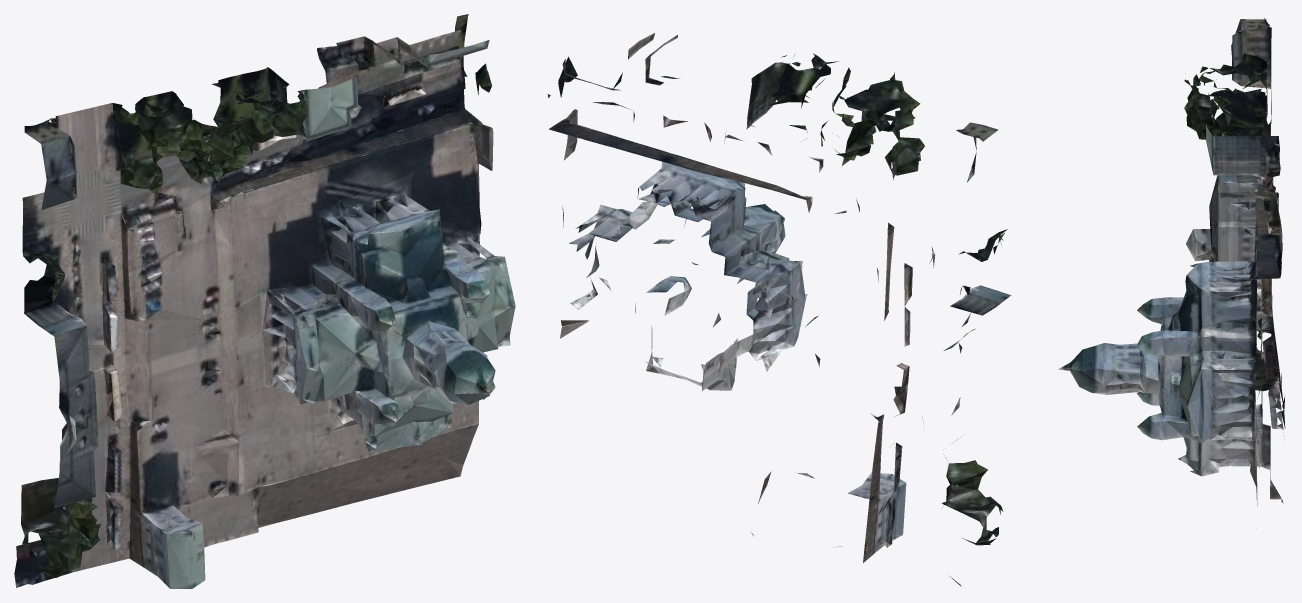
Rendered from Tile_+036_+021_L17_0000.glb.
The picture shows the model from 3 angles, left to right: view 1: azimuth 30°, elevation 25°; view 2: azimuth 150°, elevation 25°; view 3: azimuth 270°, elevation 25°; orthographic projection. The views are drawn at different scales.
Bounding box in the file's own units: 126 × 126 × 66.87.
Materials: 1 (1 with a texture image).
